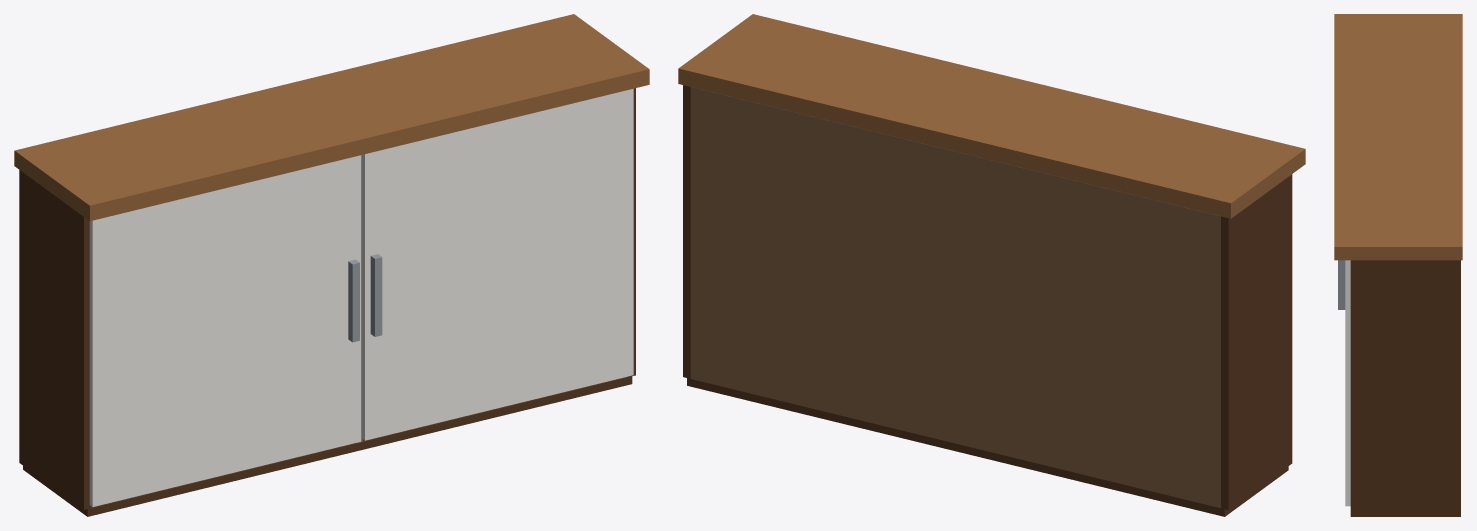
Rendered from wallcabinet.glb.
The picture shows the model from 3 angles, left to right: view 1: azimuth 30°, elevation 25°; view 2: azimuth 150°, elevation 25°; view 3: azimuth 270°, elevation 25°; orthographic projection. The views are drawn at different scales.
Parts seen in each view (by area): view 1: material-1-door, material-2-top, material-0-body, material-5-metal; view 2: material-3-interior, material-2-top, material-0-body; view 3: material-2-top, material-0-body, material-1-door, material-5-metal.
Boxes of the visible parts, x1,y1,x2,y2 form: material-1-door: (89,88,633,506); material-2-top: (14,14,649,221); material-0-body: (19,88,635,516); material-5-metal: (348,254,382,342); material-3-interior: (690,87,1220,508); material-2-top: (678,14,1305,218); material-0-body: (683,85,1292,516); material-2-top: (1334,14,1462,260); material-0-body: (1350,260,1460,516); material-1-door: (1345,260,1350,506); material-5-metal: (1338,260,1345,309).
Size of the model in its own units: 1.5 by 0.82 by 0.35.
